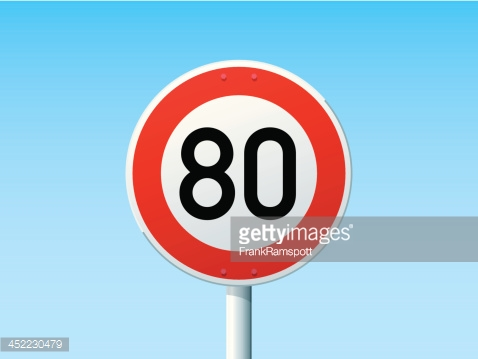Speed_limit_80km: (123, 59, 350, 287)
